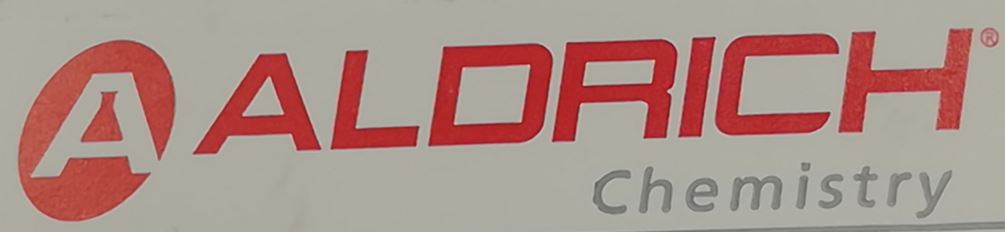SigmaAldrich: (8, 26, 1005, 225)
